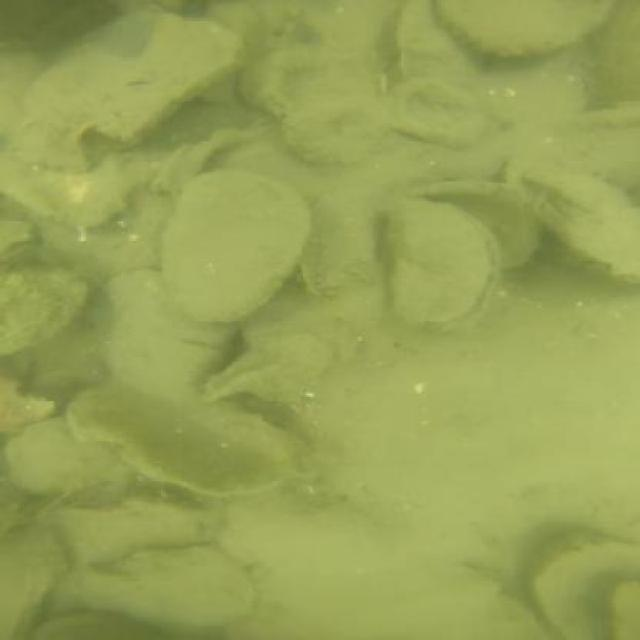Oyster-Closed: (129, 393, 300, 493)
Oyster-Indeterminate: (15, 16, 241, 169), (164, 170, 310, 323), (92, 271, 224, 401), (58, 547, 257, 633), (515, 170, 636, 281), (388, 199, 490, 329), (239, 41, 381, 114), (435, 0, 614, 56), (59, 500, 216, 562), (2, 416, 130, 490), (0, 264, 86, 353), (283, 95, 387, 165), (384, 80, 485, 145), (8, 527, 62, 635), (398, 4, 472, 78), (32, 610, 161, 639)
Oyster-Open: (530, 543, 640, 640)
